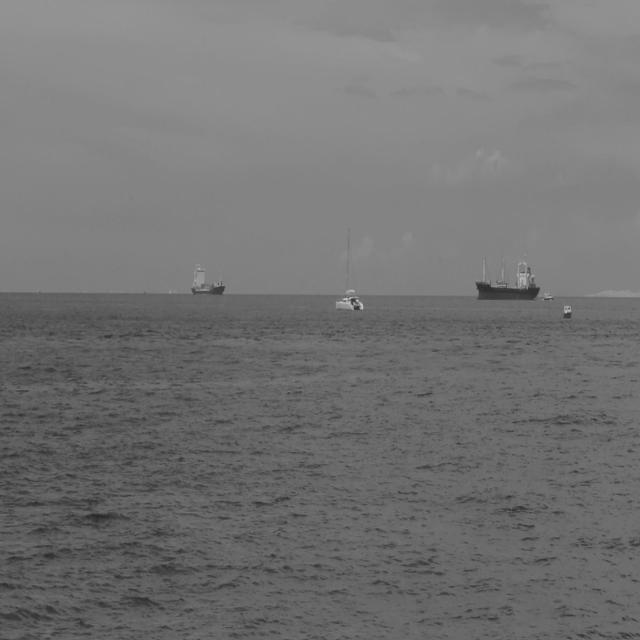boat: (334, 222, 365, 313)
ship: (472, 250, 541, 302), (189, 260, 226, 298), (562, 302, 574, 320), (540, 291, 554, 301)
